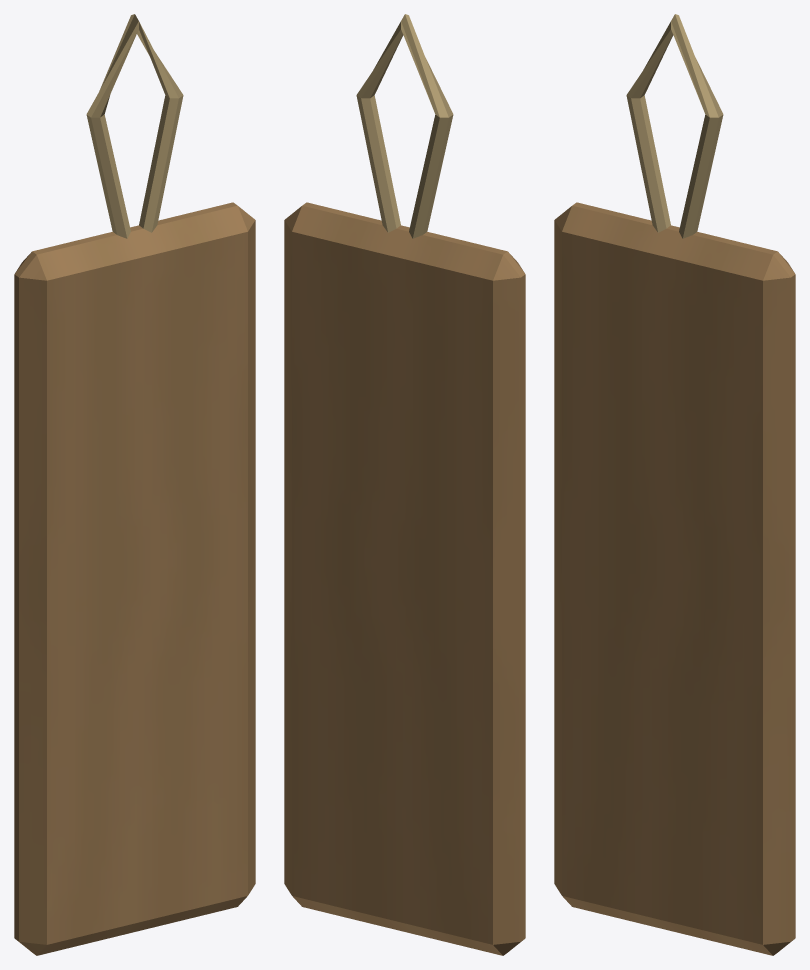
The model's file is PR_NameTablet.glb.
3 renders of one model, left to right at view 1: azimuth 30°, elevation 25°; view 2: azimuth 150°, elevation 25°; view 3: azimuth 330°, elevation 25°, orthographic.
Parts seen in each view (by area): view 1: PR_NameTablet; view 2: PR_NameTablet; view 3: PR_NameTablet.
Boxes of the visible parts, x1,y1,x2,y2 form: PR_NameTablet: (14, 14, 255, 955); PR_NameTablet: (284, 14, 525, 955); PR_NameTablet: (554, 14, 795, 955).
Size of the model in its own units: 0.12 by 0.444 by 0.022.
Materials: 2 (1 with a texture image).
